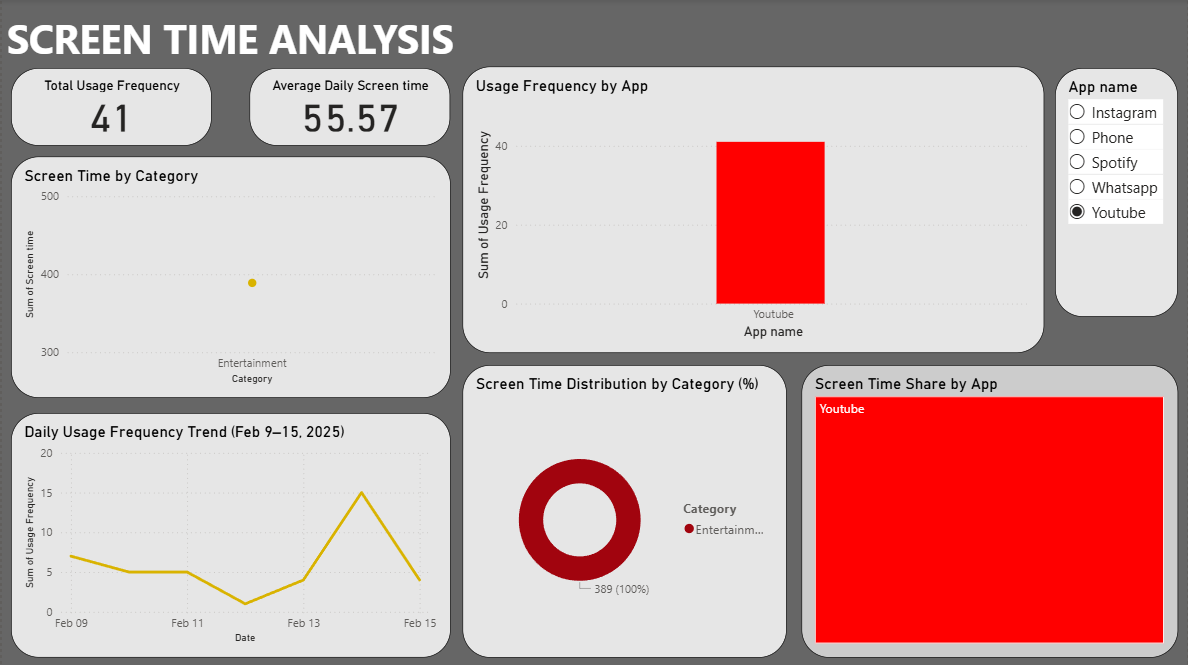

The page's visual inventory and layout, read from the dashboard file:
{"tool":"powerbi","page":{"name":"Page 1","canvas":[1280,720],"ordinal":0},"visuals":[{"type":"lineChart","fields":{"Category":["Table 1 (Sheet1).Date"],"Y":["Sum(Table 1 (Sheet1).Usage Frequency)"]},"box":[9.7,446.9,474.4,263.9],"z":0},{"type":"clusteredColumnChart","fields":{"Category":["Table 1 (Sheet1).App name"],"Y":["Sum(Table 1 (Sheet1).Usage Frequency)"]},"box":[497.1,72.9,631.5,270.4],"z":1000},{"type":"card","title":"Average Screen time","fields":{"Values":["Avg(Table 1 (Sheet1).Screen time)"]},"box":[267.2,74.5,217,103.6],"z":2000},{"type":"listSlicer","fields":{"Values":["Table 1 (Sheet1).App name"]},"box":[1139.9,74.5,129.5,268.8],"z":3000},{"type":"areaChart","fields":{"Category":["Table 1 (Sheet1).Category"],"Y":["Sum(Table 1 (Sheet1).Screen time)"]},"box":[9.7,184.6,474.4,246.1],"z":4000},{"type":"treemap","fields":{"Details":["Table 1 (Sheet1).App name"],"Values":["Sum(Table 1 (Sheet1).Screen time)"]},"box":[863,359.5,406.4,351.4],"z":5000},{"type":"card","title":"Total Usage Frequency","fields":{"Values":["Sum(Table 1 (Sheet1).Usage Frequency)"]},"box":[9.7,74.5,217,103.6],"z":6000},{"type":"textbox","box":[0,8.1,497.1,66.4],"z":7000},{"type":"donutChart","title":"Percentage of Total Screen time ","fields":{"Y":["Sum(Table 1 (Sheet1).Screen time)"],"Category":["Table 1 (Sheet1).Category"]},"box":[497.1,359.5,349.8,351.4],"z":8000}]}

Visuals, with their boxes in screenshot pixels (x1, y1, x2, y2), scaled from the page's 1280x720 canvas onto the 1188x665 screenshot:
lineChart - Table 1 (Sheet1).Date x Sum(Table 1 (Sheet1).Usage Frequency): [x1=9, y1=413, x2=449, y2=657]
clusteredColumnChart - Table 1 (Sheet1).App name x Sum(Table 1 (Sheet1).Usage Frequency): [x1=461, y1=67, x2=1047, y2=317]
"Average Screen time" card: [x1=248, y1=69, x2=449, y2=164]
listSlicer - Table 1 (Sheet1).App name: [x1=1058, y1=69, x2=1178, y2=317]
areaChart - Table 1 (Sheet1).Category x Sum(Table 1 (Sheet1).Screen time): [x1=9, y1=170, x2=449, y2=398]
treemap - Table 1 (Sheet1).App name x Sum(Table 1 (Sheet1).Screen time): [x1=801, y1=332, x2=1178, y2=657]
"Total Usage Frequency" card: [x1=9, y1=69, x2=210, y2=164]
textbox: [x1=0, y1=7, x2=461, y2=69]
"Percentage of Total Screen time " donutChart: [x1=461, y1=332, x2=786, y2=657]
